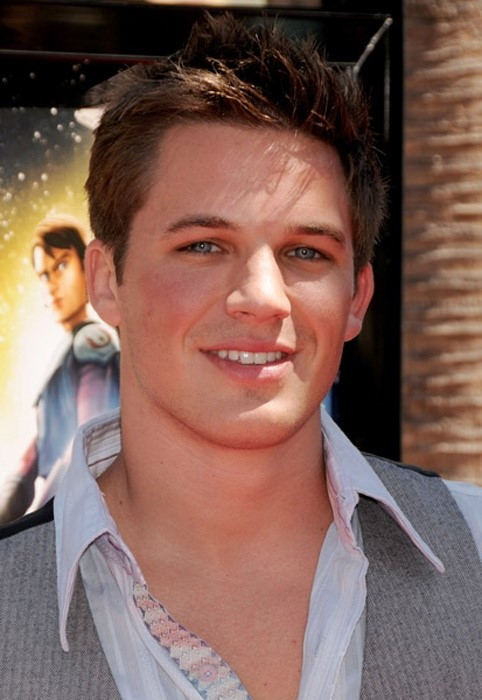face_no_mask: (82, 103, 377, 455)
